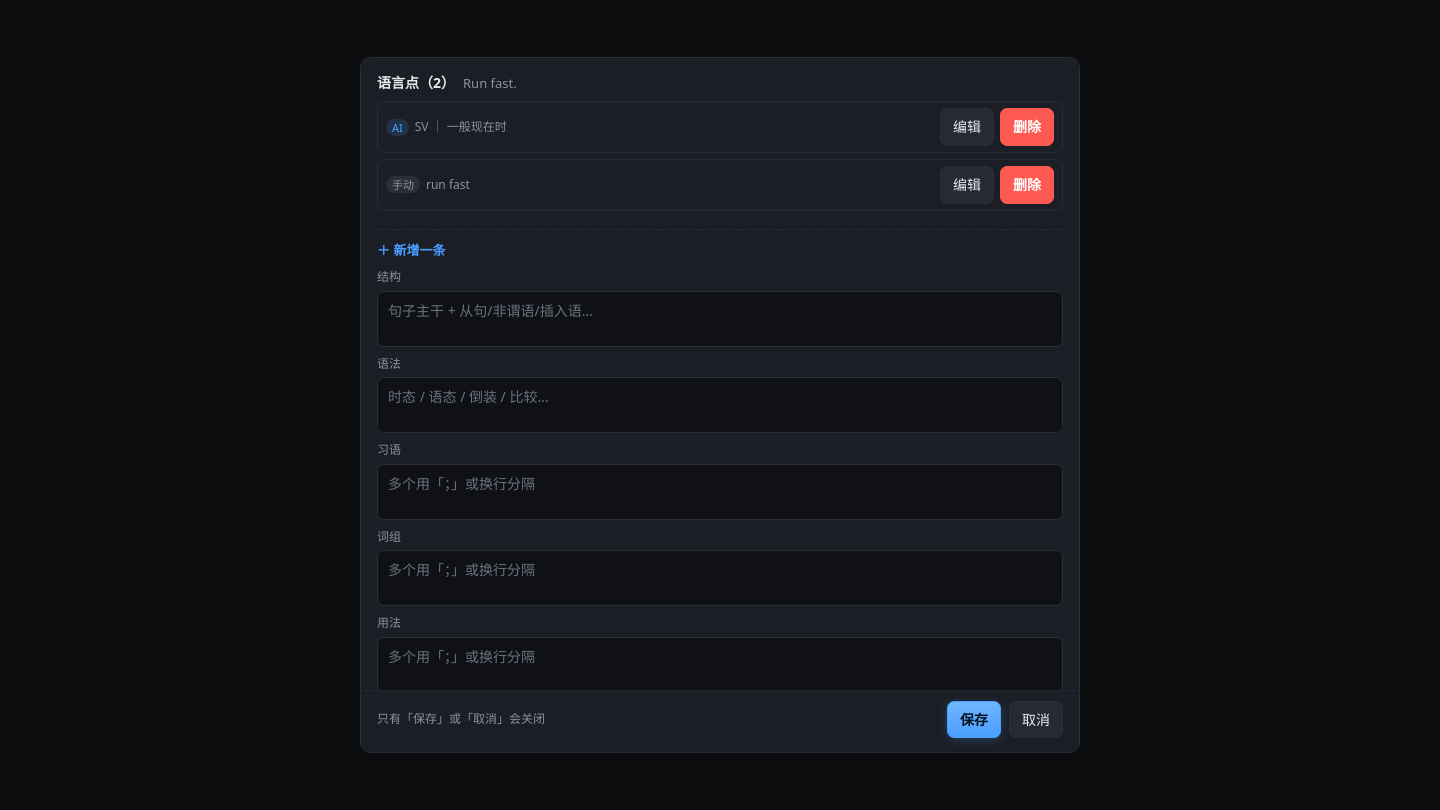
it: LanguageEditor：已有语言点 › 删除一条后条数同步
The image size is (1440, 810).
What coordinates should you click on to do the following:
click the button "删除" in the row of "手动"
I would click on:
 (1027, 185)
Its box is x1=1000 y1=166 x2=1054 y2=204.
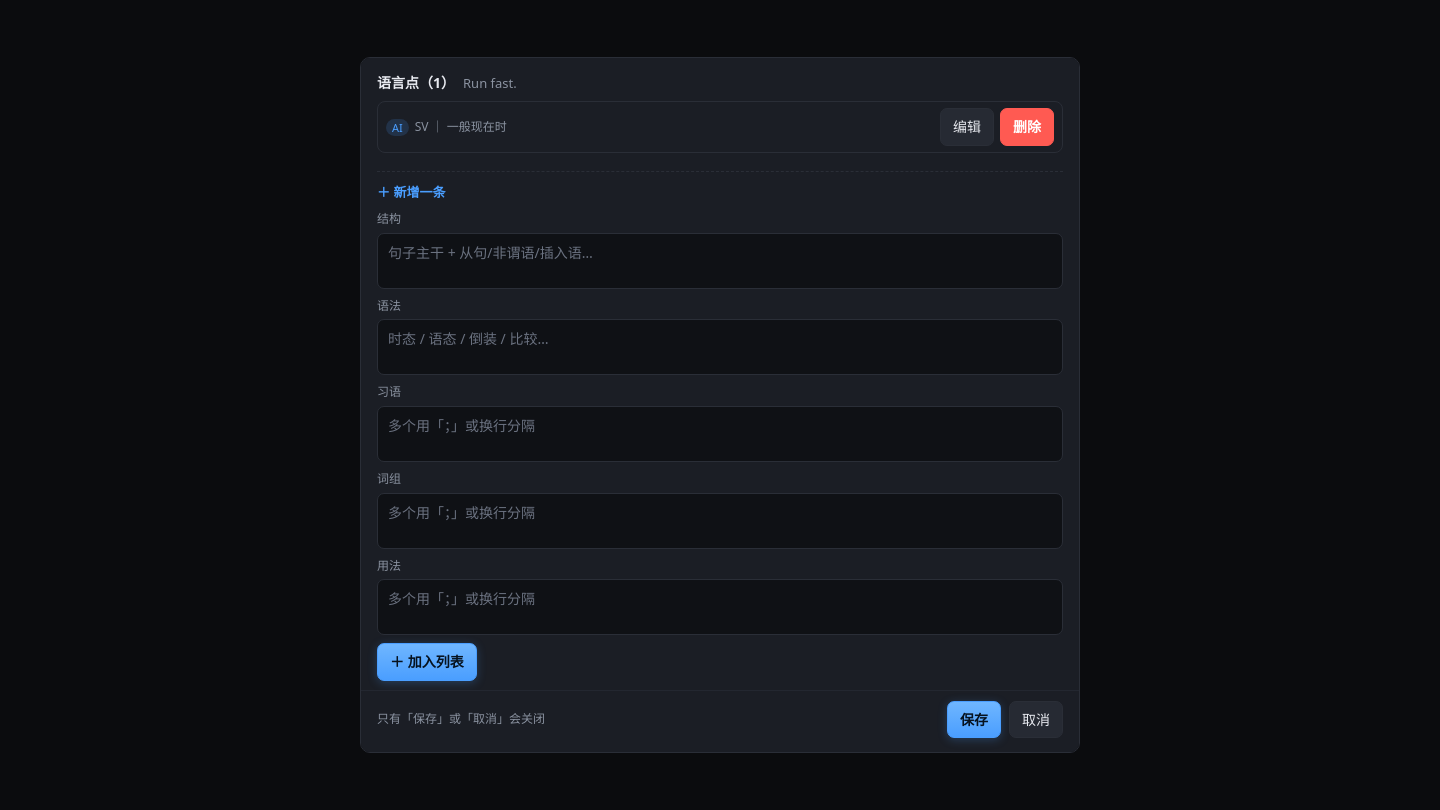
Now the text "语言点（1）" is shown, box x1=377 y1=72 x2=455 y2=93
Now the number of elements with class "lang-item" is 1, box x1=377 y1=101 x2=1063 y2=153
